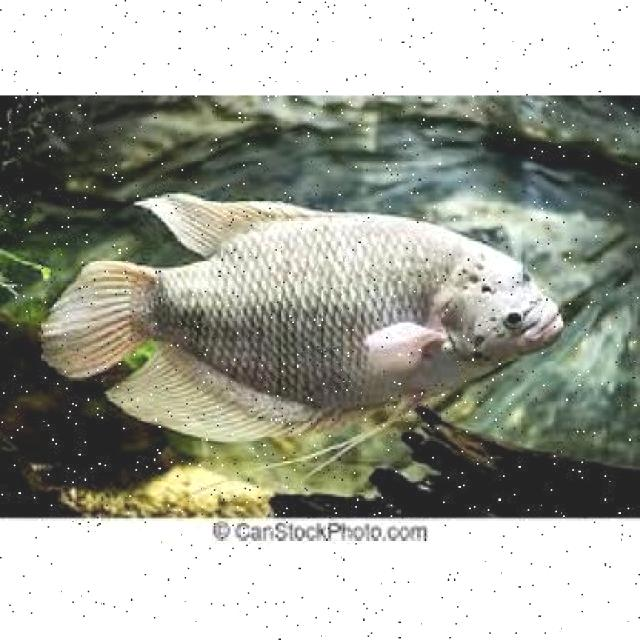gurame: (38, 194, 566, 440)
